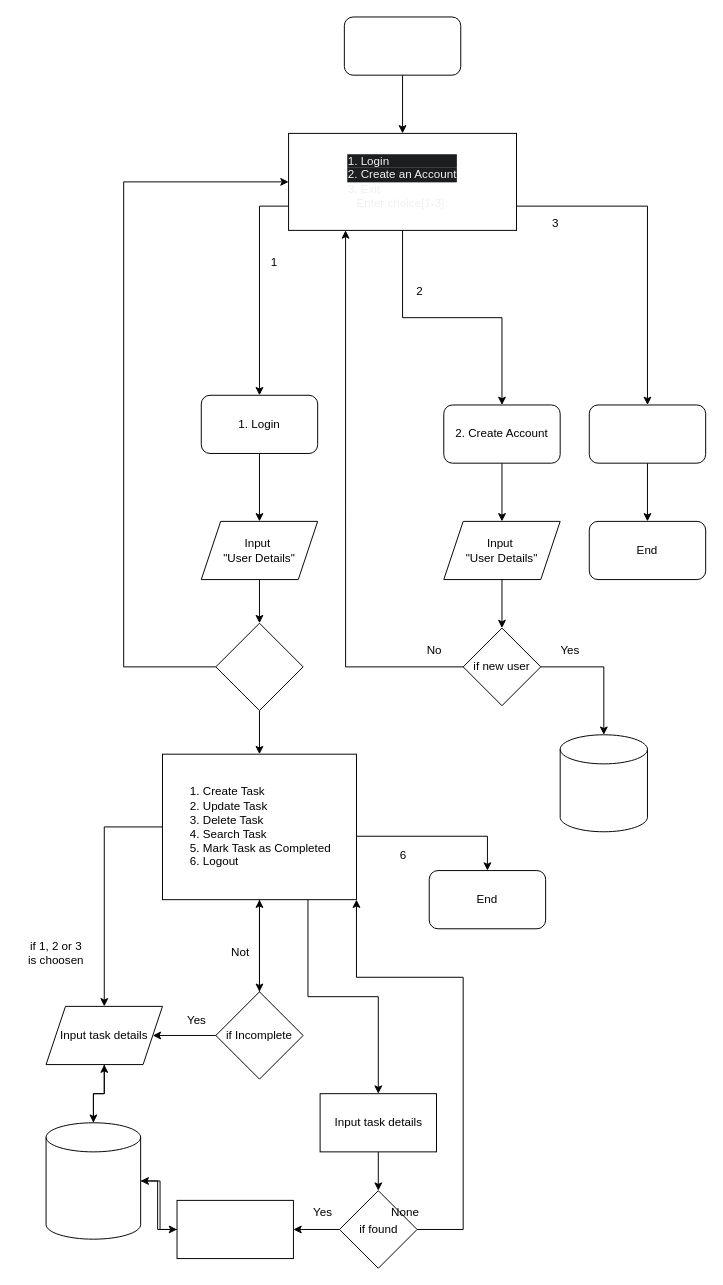
The diagram is 723 pixels wide and 1285 high, and some of its shapes have lost their labels. The centre of each missing label's shape, as x and y in pixels:
"3. Exit" goes at point (647, 433).
"Display task details" goes at point (234, 1229).
"Login Successful" goes at point (259, 666).
"Start" goes at point (402, 45).
"Store user to database" goes at point (603, 783).
"Store, Update, Delete, Search Task" goes at point (93, 1180).
